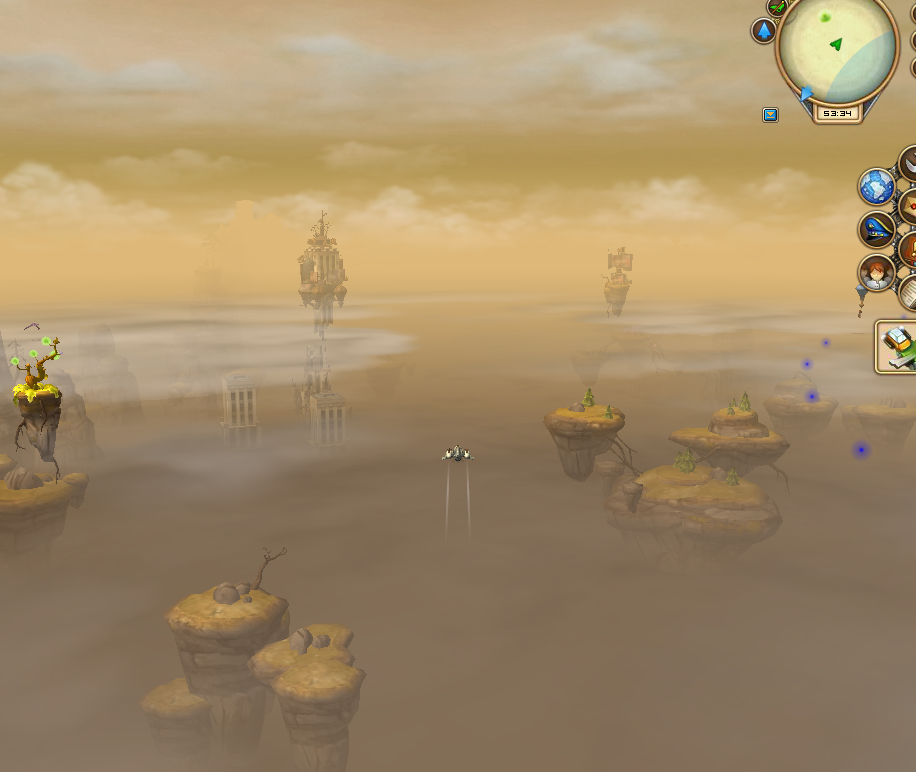dandelion-full: (6, 331, 72, 459)
